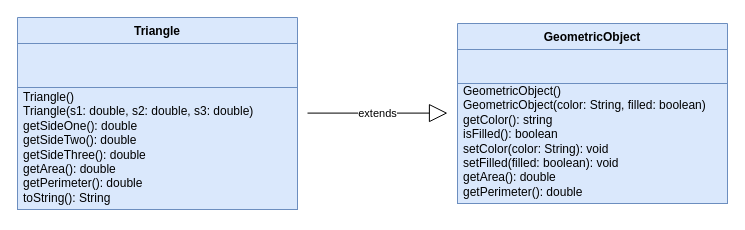
Image size: 745x230. Some labels were removed from this diagram. Each missing label, with the box of its shape:
color: String filled: boolean: (456, 48, 728, 84)
side1: double side2: double side3: double: (16, 42, 298, 88)
